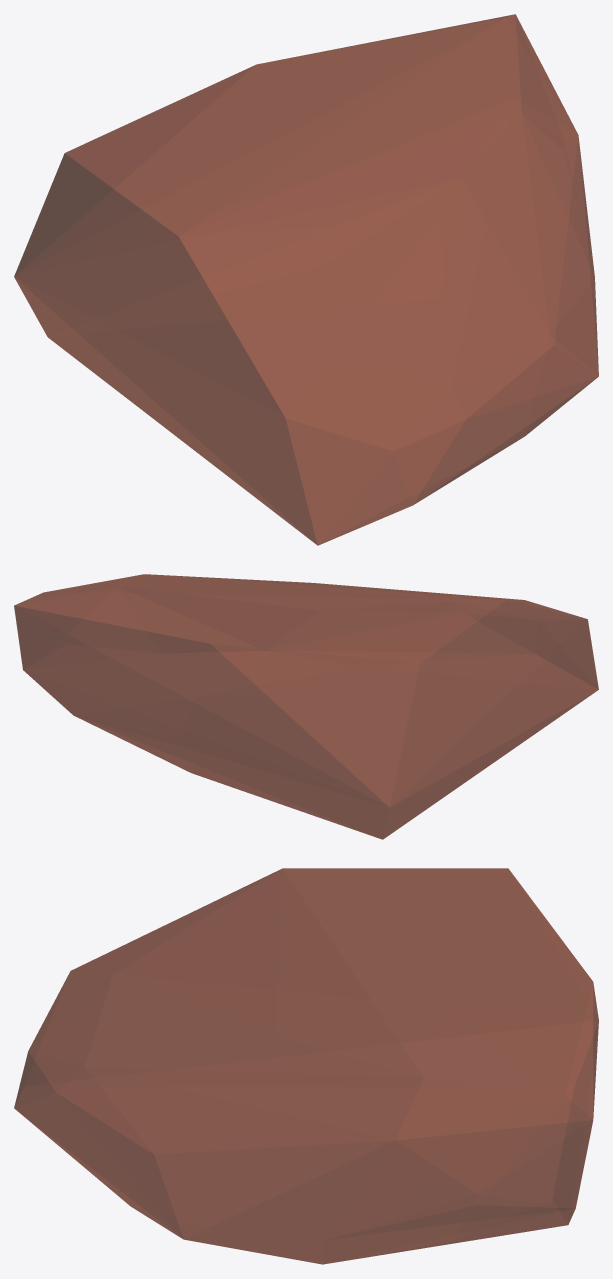
3 views of the same model, one above another, from view 1: azimuth 30°, elevation 25°; view 2: azimuth 150°, elevation 25°; view 3: azimuth 270°, elevation 25° (orthographic). The views are drawn at different scales.
Visible parts, largest first — view 1: Shape_IndexedFaceSet.182_Shape_IndexedFaceSet.611; view 2: Shape_IndexedFaceSet.182_Shape_IndexedFaceSet.611; view 3: Shape_IndexedFaceSet.182_Shape_IndexedFaceSet.611.
Part boxes in pixels (left/top/right/bottom): Shape_IndexedFaceSet.182_Shape_IndexedFaceSet.611: left=14, top=14, right=598, bottom=545; Shape_IndexedFaceSet.182_Shape_IndexedFaceSet.611: left=14, top=574, right=598, bottom=839; Shape_IndexedFaceSet.182_Shape_IndexedFaceSet.611: left=14, top=868, right=598, bottom=1264.
Bounding box in the file's own units: 0.1712 × 0.0708 × 0.1755.
